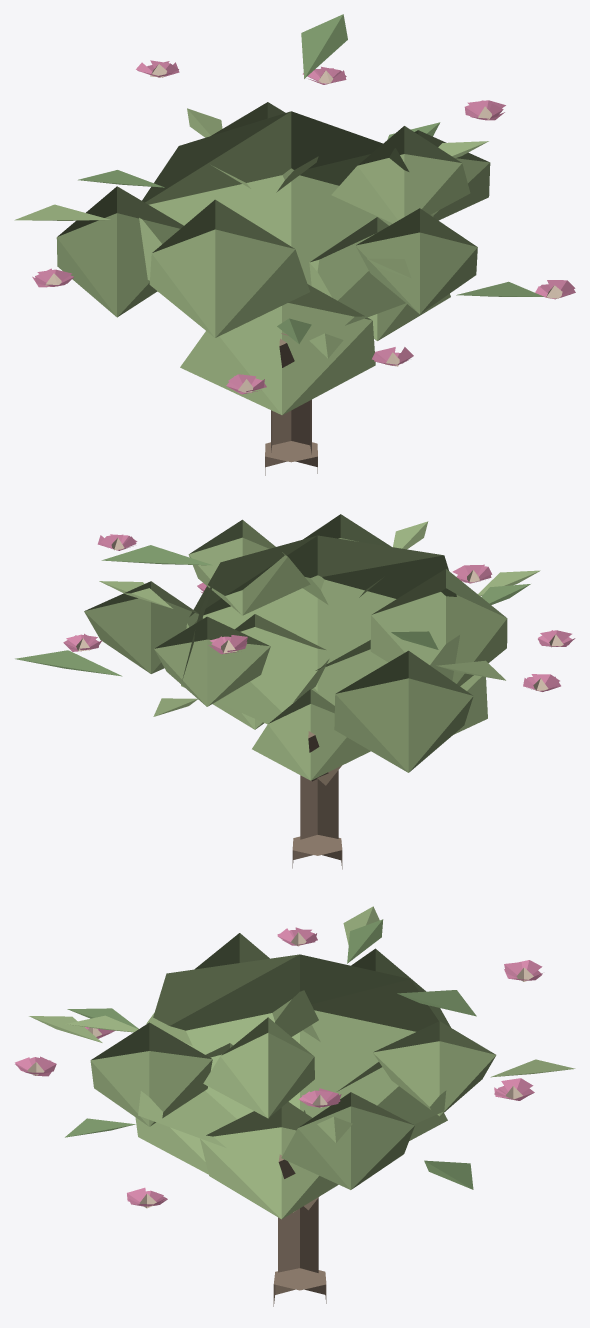
File: shu.ganju@flowering__summer.glb
3 views of the same model, one above another, from view 1: azimuth 30°, elevation 25°; view 2: azimuth 150°, elevation 25°; view 3: azimuth 270°, elevation 25° (orthographic). The views are drawn at different scales.
Parts seen in each view (by area): view 1: shu.ganju@flowering__summer; view 2: shu.ganju@flowering__summer; view 3: shu.ganju@flowering__summer.
Boxes of the visible parts, x1,y1,x2,y2 form: shu.ganju@flowering__summer: (14,14,575,475); shu.ganju@flowering__summer: (15,514,575,869); shu.ganju@flowering__summer: (15,906,575,1306).
Bounding box in the file's own units: 7.36 × 5.12 × 7.37.
